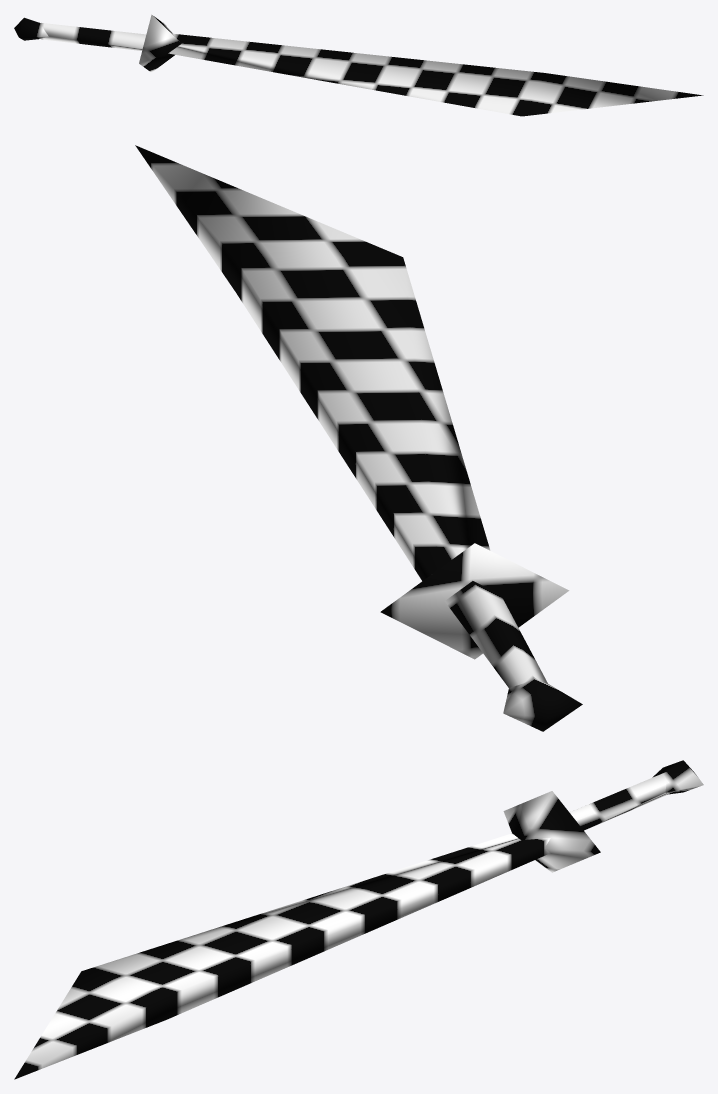
The model's file is initwesw3.dae.
3 renders of one model, top to bottom at view 1: azimuth 30°, elevation 25°; view 2: azimuth 150°, elevation 25°; view 3: azimuth 270°, elevation 25°, orthographic. The views are drawn at different scales.
Visible parts, largest first — view 1: weapon; view 2: weapon; view 3: weapon.
Boxes of the visible parts, <box> form: weapon: <box>14,14,703,116</box>; weapon: <box>135,145,582,731</box>; weapon: <box>14,760,703,1079</box>.
Bounding box in the file's own units: 1.87 × 1.75 × 0.2294.
Materials: 1 (1 with a texture image).
